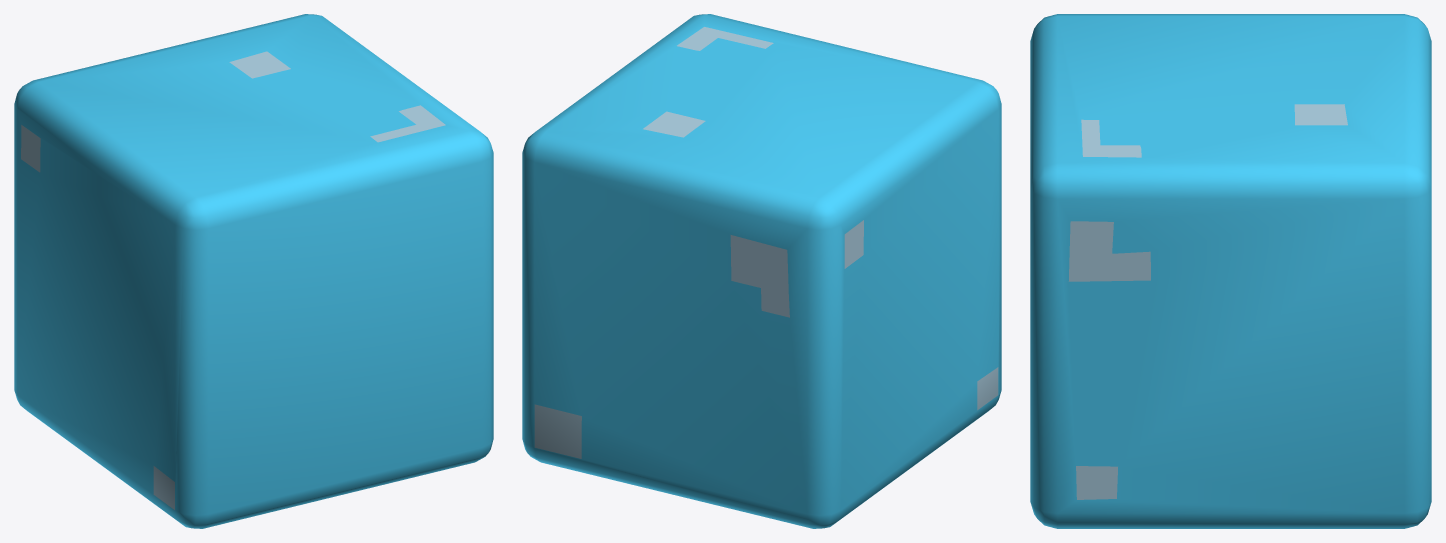
File: Caja_interactuable_Hielo.glb
3 renders of one model, left to right at view 1: azimuth 30°, elevation 25°; view 2: azimuth 150°, elevation 25°; view 3: azimuth 270°, elevation 25°, orthographic. The views are drawn at different scales.
Visible parts, largest first — view 1: Cube; view 2: Cube; view 3: Cube.
Boxes of the visible parts, box(x1,y1,x2,y2) form: Cube: box(14, 14, 493, 528); Cube: box(522, 14, 1001, 528); Cube: box(1030, 14, 1431, 528).
Bounding box in the file's own units: 2 × 2 × 2.
